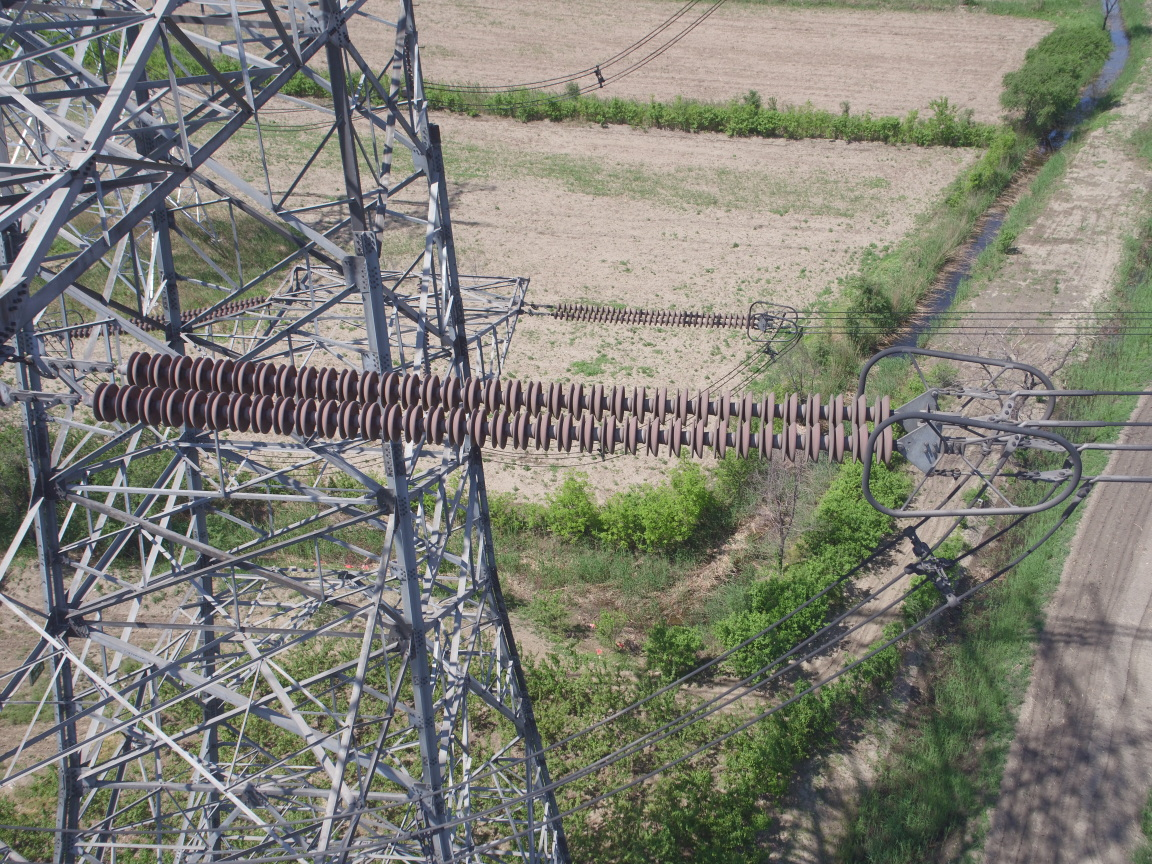insulator: (56, 347, 908, 469), (541, 301, 751, 331)
